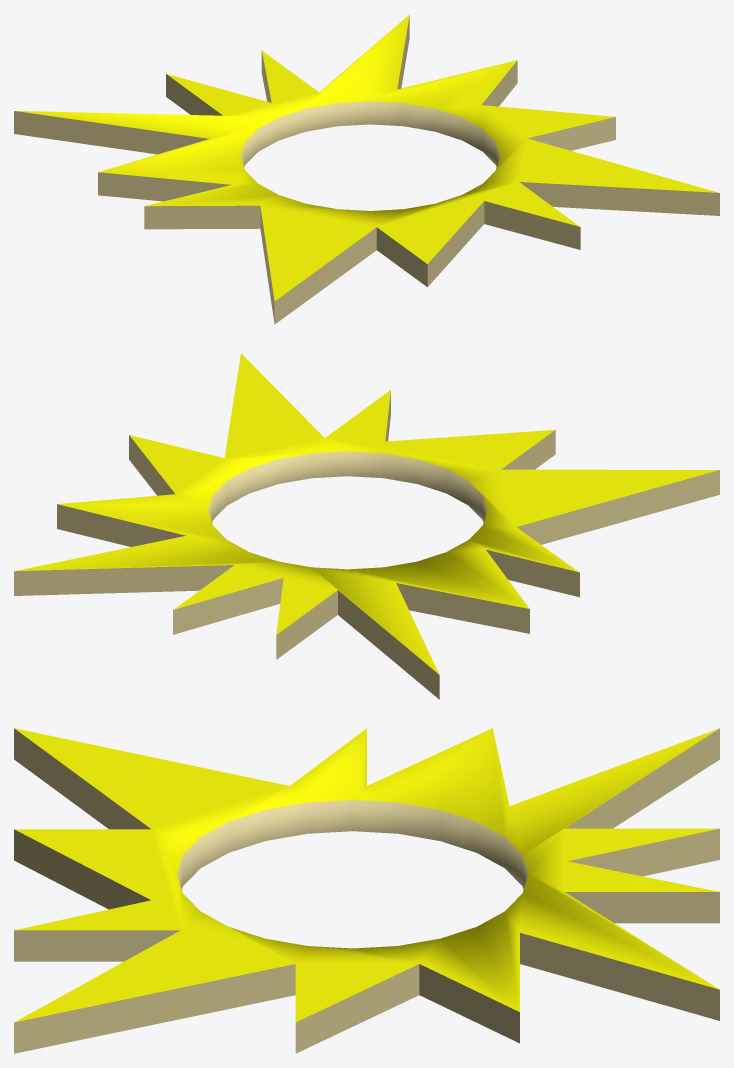
The model's file is light.fbx.
3 renders of one model, top to bottom at view 1: azimuth 30°, elevation 25°; view 2: azimuth 150°, elevation 25°; view 3: azimuth 270°, elevation 25°, orthographic. The views are drawn at different scales.
Parts seen in each view (by area): view 1: sun; view 2: sun; view 3: sun.
Boxes of the visible parts, box(x1,y1,x2,y2) form: sun: box(14, 14, 719, 324); sun: box(14, 353, 719, 699); sun: box(14, 728, 719, 1053).
Bounding box in the file's own units: 6.88 × 139 × 141.
